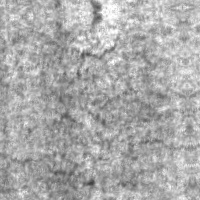crazing: (54, 32, 129, 130), (113, 126, 192, 187), (0, 141, 81, 197)
